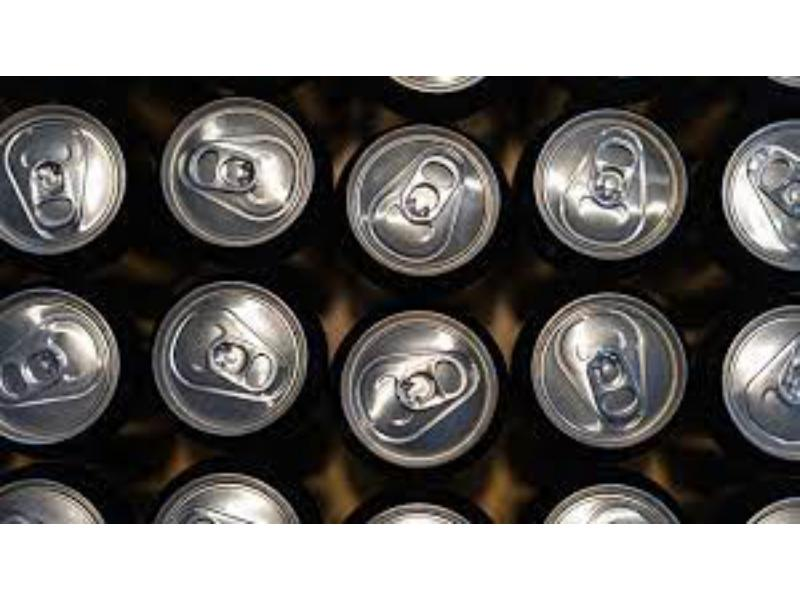can: (338, 305, 505, 473), (528, 290, 693, 454), (150, 275, 308, 436), (345, 120, 502, 281), (533, 109, 690, 265), (157, 95, 312, 251), (0, 282, 120, 450), (0, 103, 128, 256), (723, 107, 800, 277), (725, 298, 799, 461)
